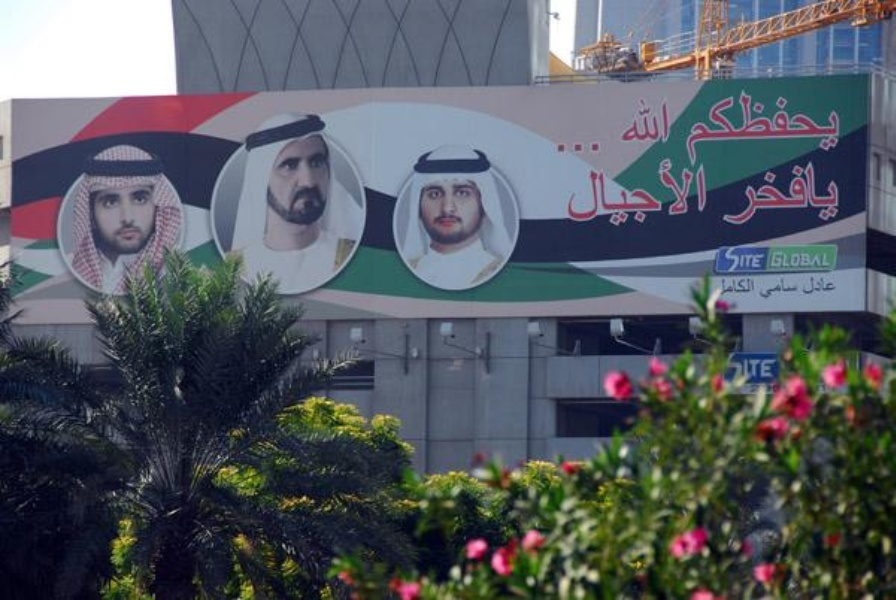text: (689, 87, 704, 169), (705, 87, 720, 169), (721, 87, 736, 169), (737, 87, 752, 169), (753, 87, 768, 169), (769, 87, 784, 169), (785, 87, 800, 169), (801, 87, 816, 169), (817, 87, 832, 169), (577, 156, 592, 226), (593, 156, 608, 226), (609, 156, 624, 226), (625, 156, 640, 226), (641, 156, 656, 226), (657, 156, 672, 226), (673, 156, 688, 226), (689, 156, 704, 226), (753, 160, 768, 229), (769, 160, 784, 229), (785, 160, 800, 229), (801, 160, 816, 229), (817, 160, 832, 229), (833, 160, 843, 229), (833, 87, 841, 169), (657, 102, 673, 142), (625, 102, 640, 142), (641, 102, 656, 142), (737, 245, 752, 274), (705, 156, 711, 226), (753, 354, 768, 380), (785, 277, 801, 301), (785, 248, 800, 272), (801, 248, 816, 272), (817, 248, 832, 272), (769, 277, 784, 301), (747, 160, 752, 229), (721, 275, 736, 298), (737, 275, 752, 298), (684, 87, 688, 169), (725, 245, 736, 274), (771, 248, 784, 272), (769, 354, 780, 380), (817, 277, 832, 296), (802, 277, 816, 296), (753, 245, 762, 274), (561, 139, 576, 156), (577, 139, 592, 156), (759, 277, 768, 301), (744, 354, 752, 380), (620, 102, 624, 142), (593, 139, 602, 156), (553, 139, 560, 156), (753, 275, 758, 298), (833, 277, 838, 296), (716, 275, 720, 298), (575, 156, 576, 226), (833, 248, 834, 272)
